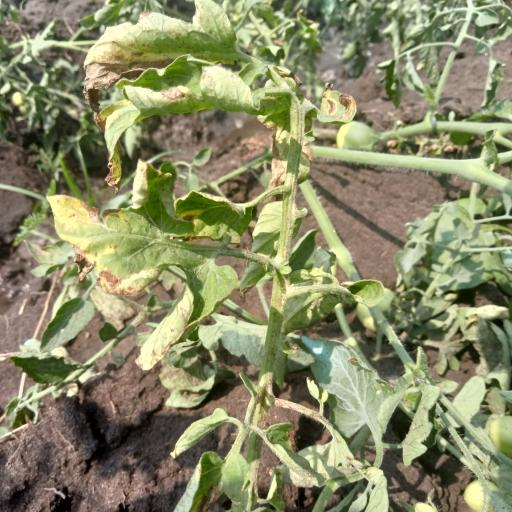Tomato_Brown_Spots: (47, 154, 249, 376), (102, 53, 291, 180), (80, 0, 262, 90)
